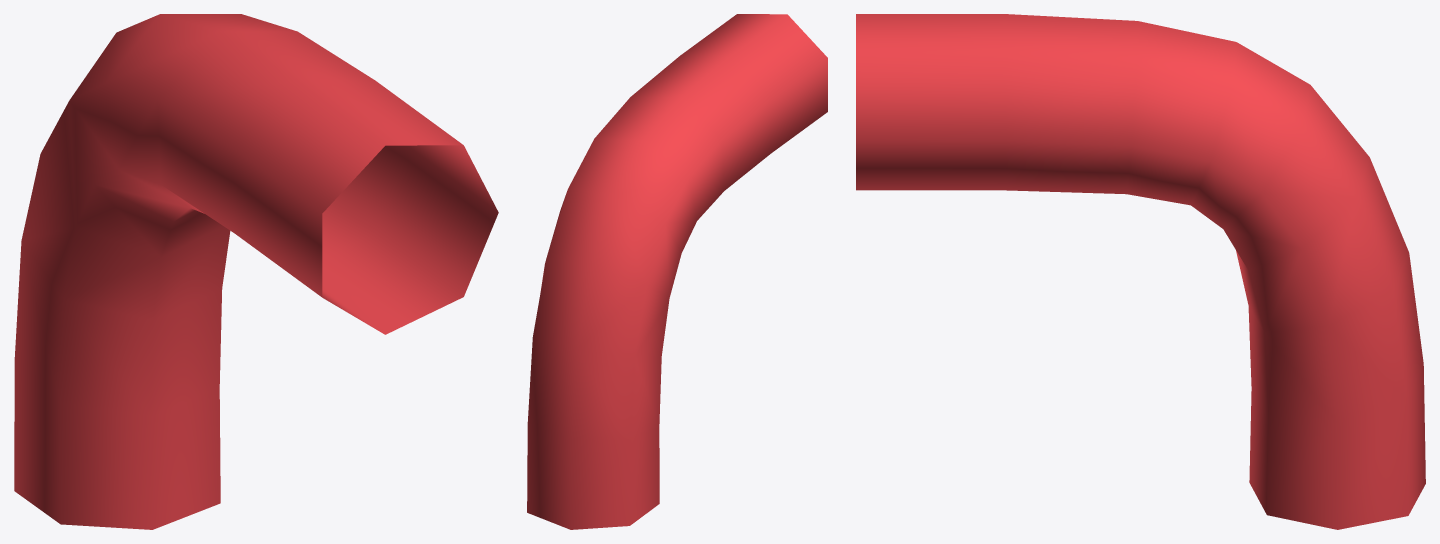
The model's file is Norris_Maze_Red_Wire_Out.fbx.
3 views of the same model, side by side, from view 1: azimuth 30°, elevation 25°; view 2: azimuth 150°, elevation 25°; view 3: azimuth 270°, elevation 25° (orthographic). The views are drawn at different scales.
Parts seen in each view (by area): view 1: WireDown2; view 2: WireDown2; view 3: WireDown2.
Part boxes in pixels (box(x1,y1,x2,y2)): WireDown2: box(14, 14, 498, 529); WireDown2: box(527, 14, 827, 529); WireDown2: box(856, 14, 1425, 529).
Bounding box in the file's own units: 0.9742 × 2.94 × 3.23.
